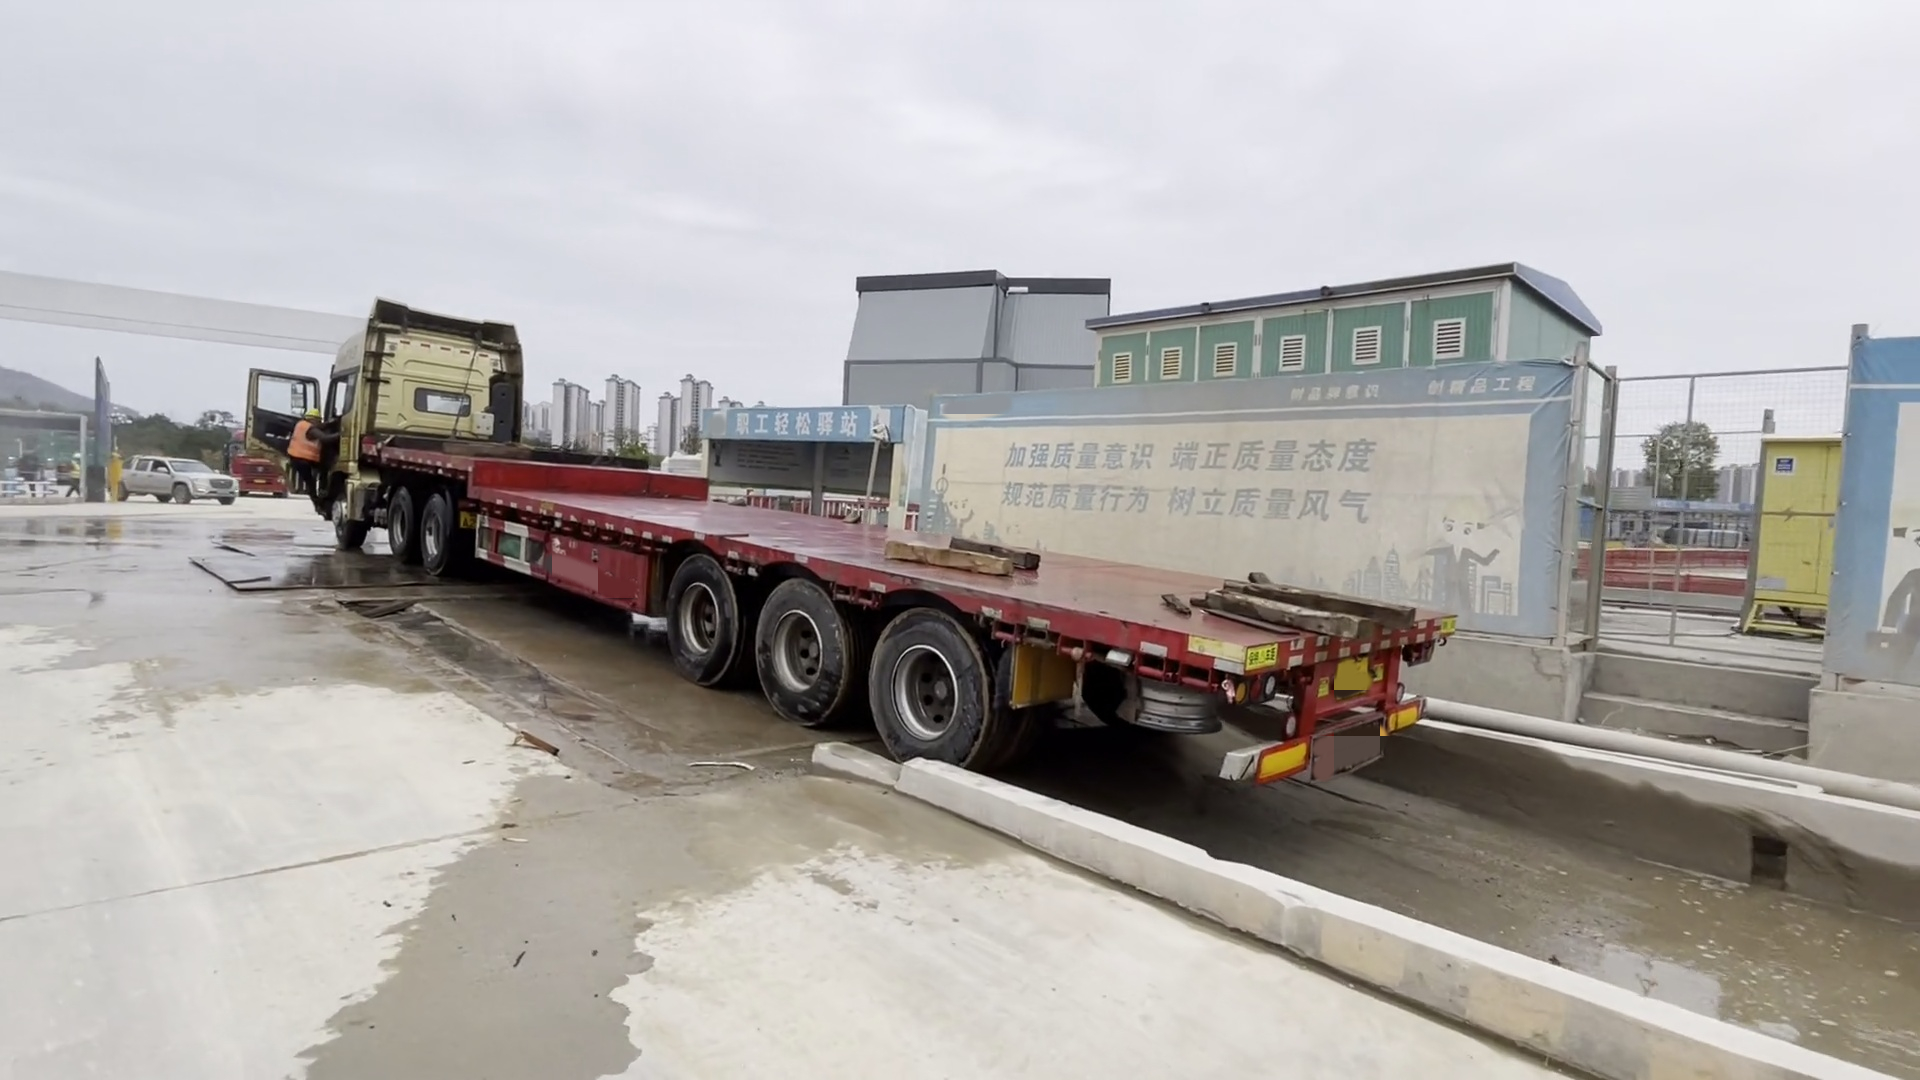helmet: (303, 409, 321, 418)
person: (291, 404, 344, 505)
slogan: (982, 430, 1392, 545), (1280, 374, 1544, 423)
vest: (292, 424, 323, 461)
